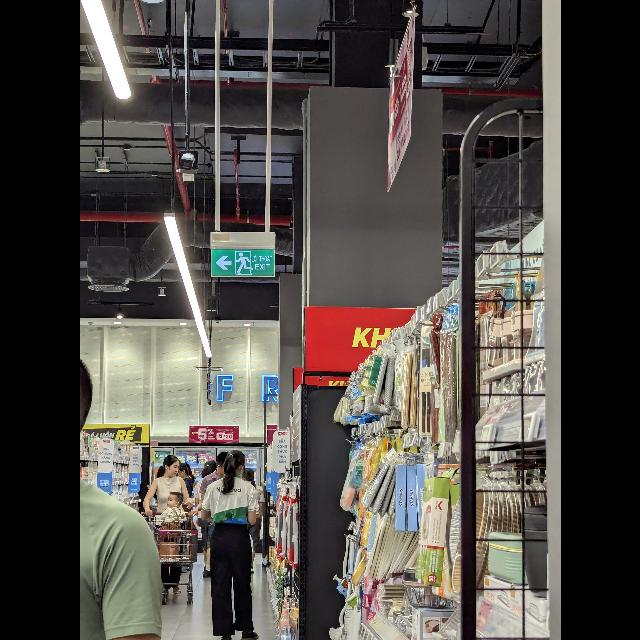exit: (210, 248, 274, 278)
